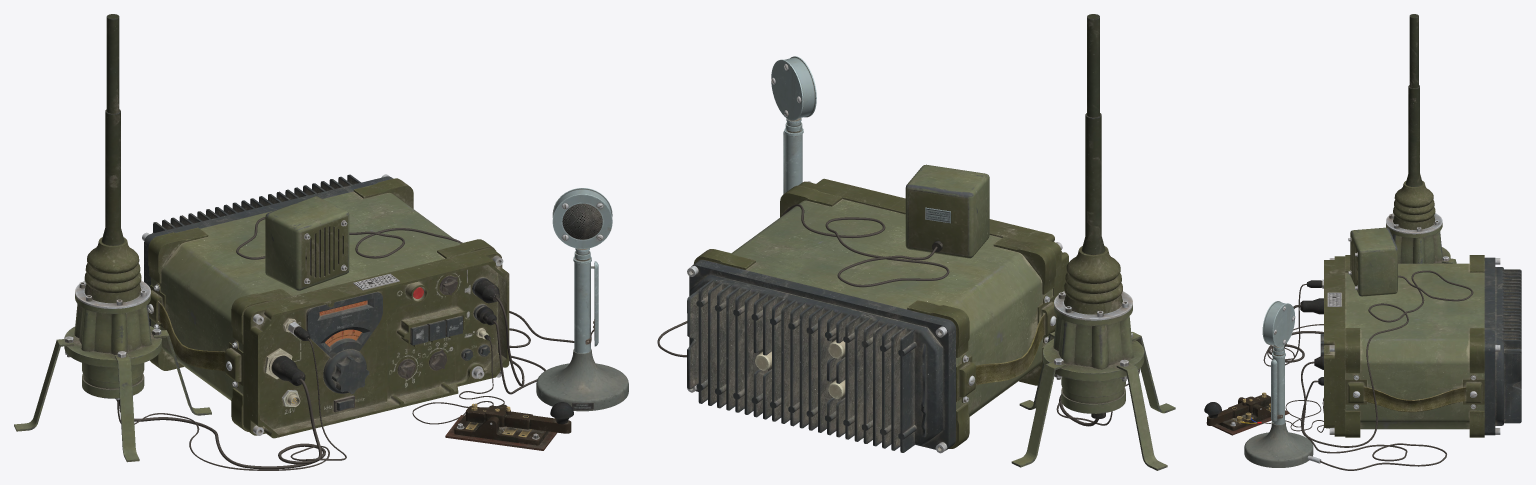
The model's file is ph_vintage_radio_transceiver.glb.
3 views of the same model, side by side, from view 1: azimuth 30°, elevation 25°; view 2: azimuth 150°, elevation 25°; view 3: azimuth 270°, elevation 25° (orthographic). The views are drawn at different scales.
Parts seen in each view (by area): view 1: vintage_radio_transceiver, vintage_radio_transceiver_cable; view 2: vintage_radio_transceiver, vintage_radio_transceiver_cable; view 3: vintage_radio_transceiver, vintage_radio_transceiver_cable.
Boxes of the visible parts, box(x1,y1,x2,y2) form: vintage_radio_transceiver: box(142, 174, 509, 438); vintage_radio_transceiver_cable: box(14, 14, 628, 470); vintage_radio_transceiver: box(687, 178, 1068, 453); vintage_radio_transceiver_cable: box(657, 14, 1175, 470); vintage_radio_transceiver: box(1320, 255, 1521, 437); vintage_radio_transceiver_cable: box(1204, 14, 1473, 470).
Bounding box in the file's own units: 0.574 × 0.4344 × 0.4131.
Materials: 2 (2 with a texture image).
